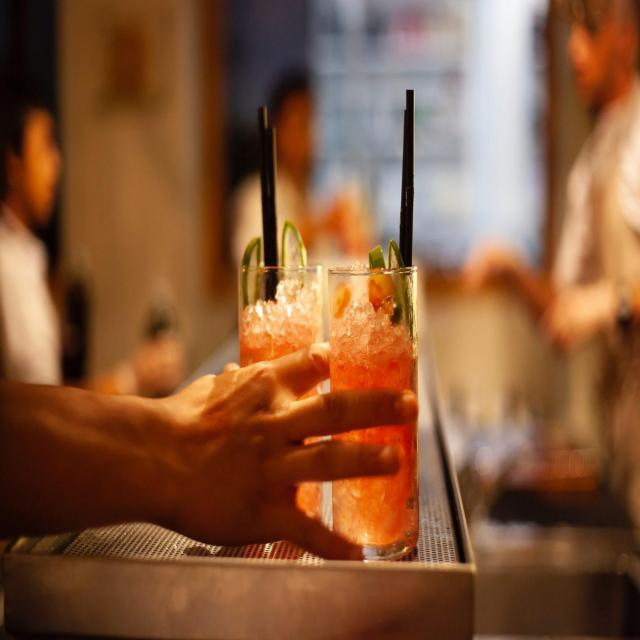glass-normal: (326, 258, 422, 563), (234, 260, 324, 538)
